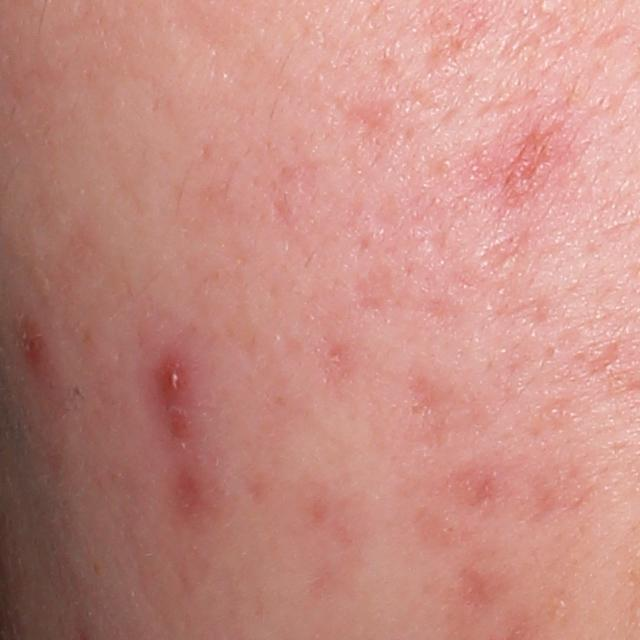atrophic_scar: (498, 113, 567, 194), (331, 97, 397, 159), (347, 257, 399, 319), (477, 229, 527, 278), (494, 293, 553, 329), (269, 194, 297, 234)
papule: (155, 354, 190, 407), (23, 324, 51, 370)
